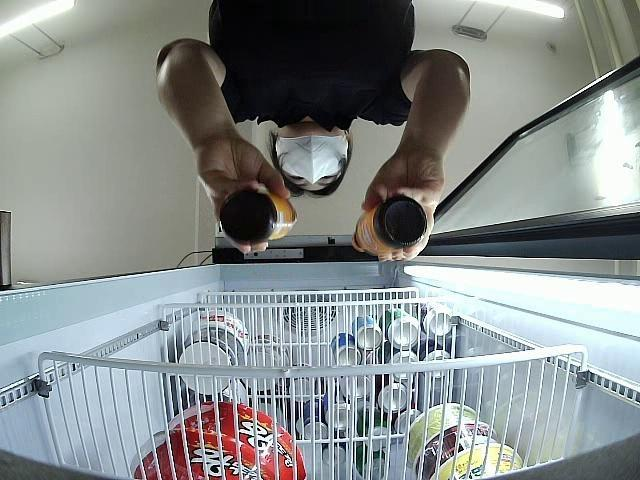17_vita500: (220, 188, 298, 245), (352, 198, 426, 255)
